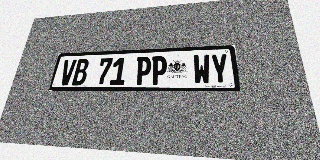1: (110, 57, 127, 85)
7: (95, 58, 113, 85)
B: (71, 59, 90, 85)
P: (135, 56, 152, 85), (150, 56, 167, 85)
V: (58, 59, 77, 85)
W: (193, 54, 211, 84)
Y: (210, 53, 230, 84)
